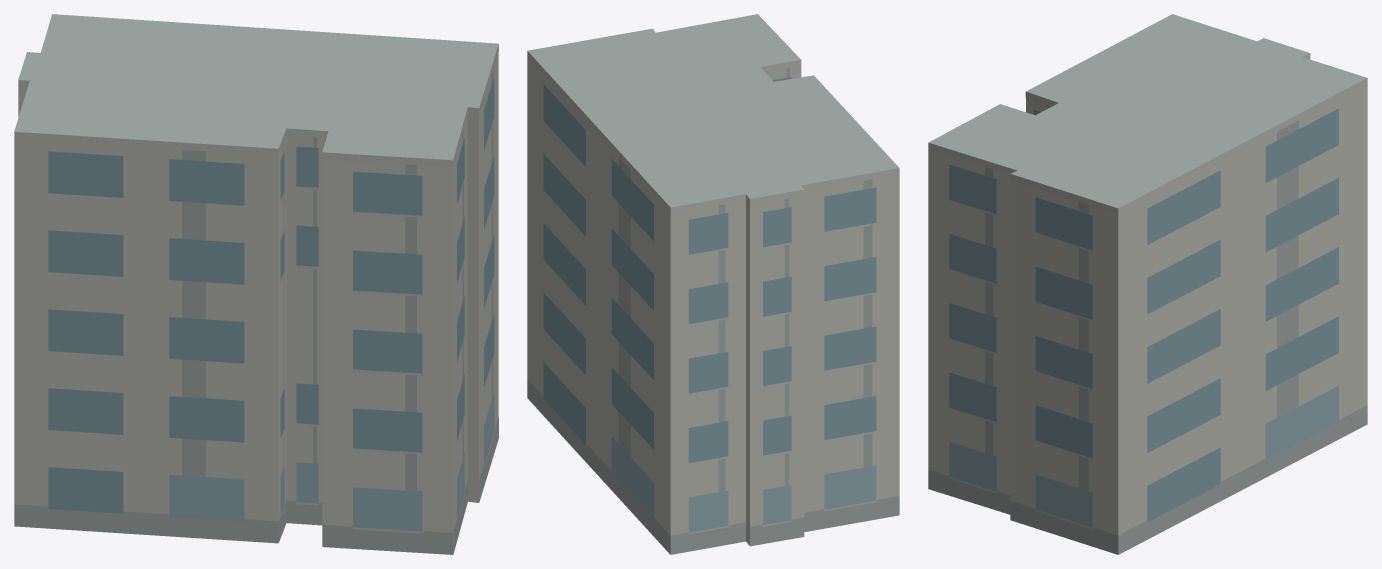
The model's file is survey-upis-33014713.glb.
The picture shows the model from 3 angles, left to right: view 1: azimuth 30°, elevation 25°; view 2: azimuth 150°, elevation 25°; view 3: azimuth 270°, elevation 25°; orthographic projection. The views are drawn at different scales.
Parts seen in each view (by area): view 1: survey-upis-33014713.tmp; view 2: survey-upis-33014713.tmp; view 3: survey-upis-33014713.tmp.
Boxes of the visible parts, x1=… form: survey-upis-33014713.tmp: x1=14, y1=14, x2=498, y2=554; survey-upis-33014713.tmp: x1=527, y1=14, x2=899, y2=554; survey-upis-33014713.tmp: x1=928, y1=14, x2=1367, y2=554.
Size of the model in its own units: 16.13 by 13.4 by 15.4.
